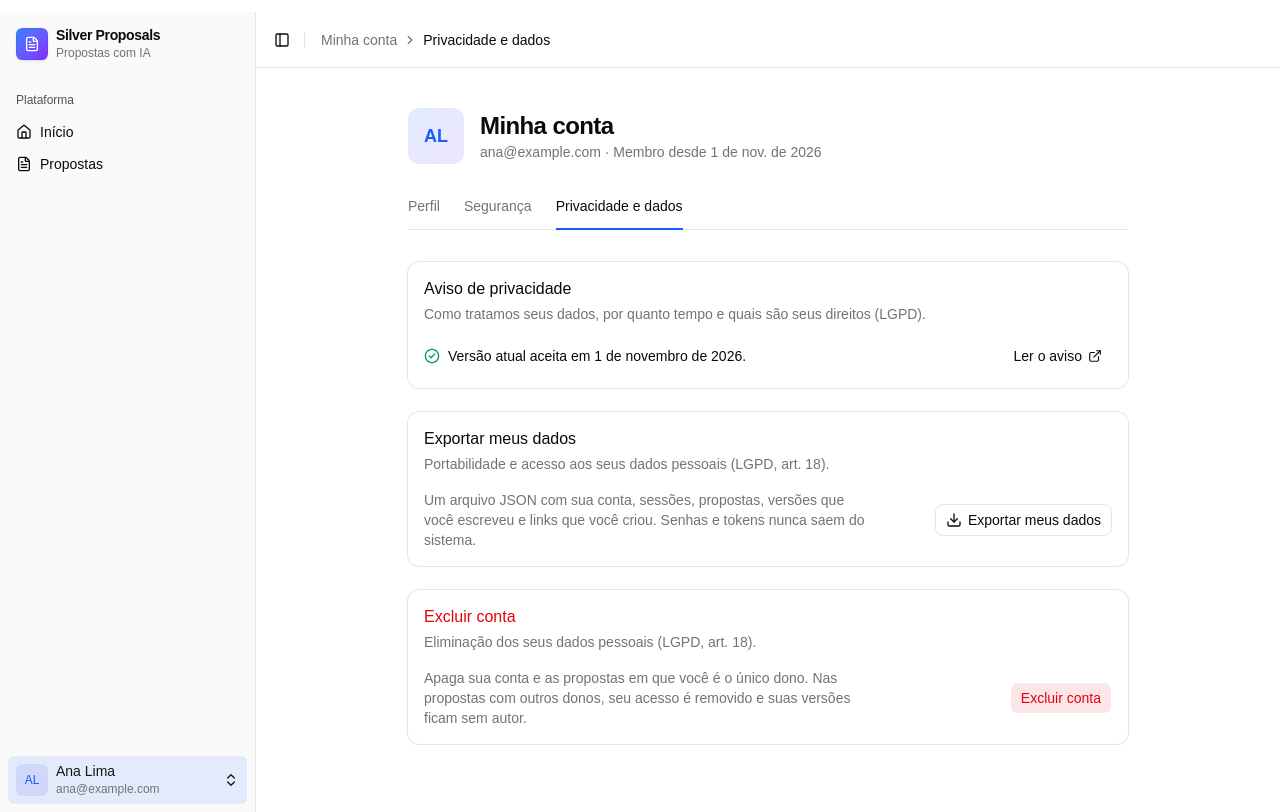
Test case: DataPage › shows an export error
Click the button "Exportar meus dados" at point(1023, 520), box [935,504,1112,536]
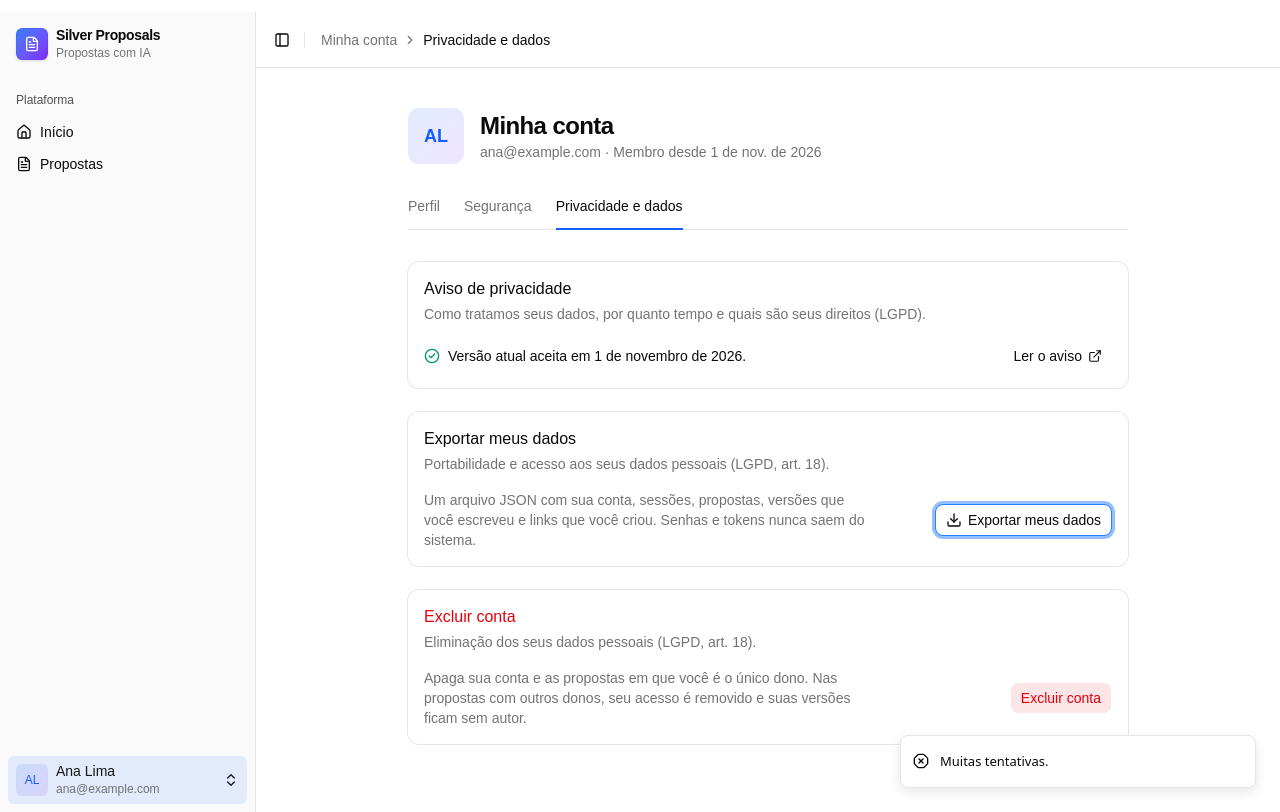
Now the text "Muitas tentativas." is shown, box [940,752,1048,771]
